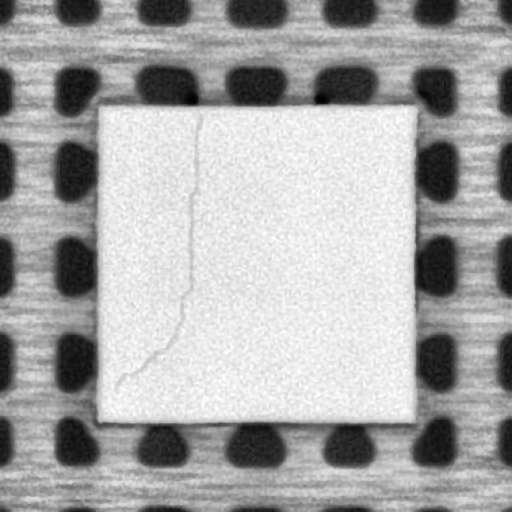DIE_CRACK: (111, 114, 202, 386)
